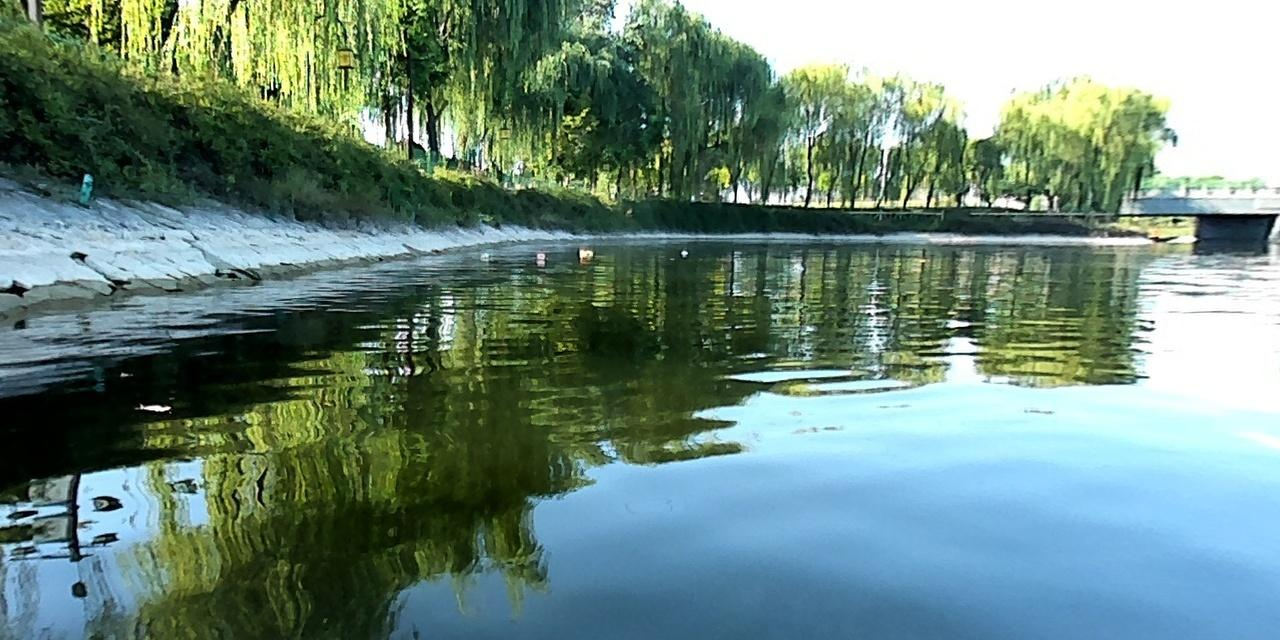bottle: (577, 246, 594, 259)
